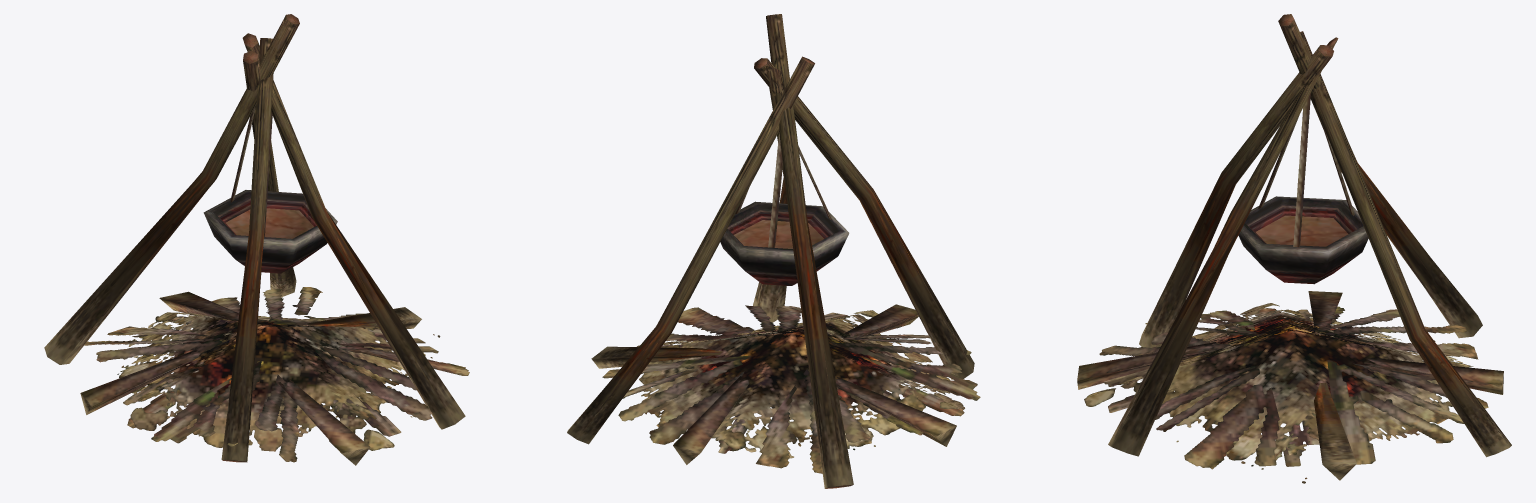
Rendered from yinghuo01.FBX.
The picture shows the model from 3 angles, left to right: view 1: azimuth 30°, elevation 25°; view 2: azimuth 150°, elevation 25°; view 3: azimuth 270°, elevation 25°; orthographic projection. The views are drawn at different scales.
Visible parts, largest first — view 1: yinghuo01; view 2: yinghuo01; view 3: yinghuo01.
Part boxes in pixels (x1,y1,x2,y2): yinghuo01: (44, 14, 469, 465); yinghuo01: (567, 14, 980, 488); yinghuo01: (1077, 14, 1511, 483).
Size of the model in its own units: 232 by 222 by 231.
